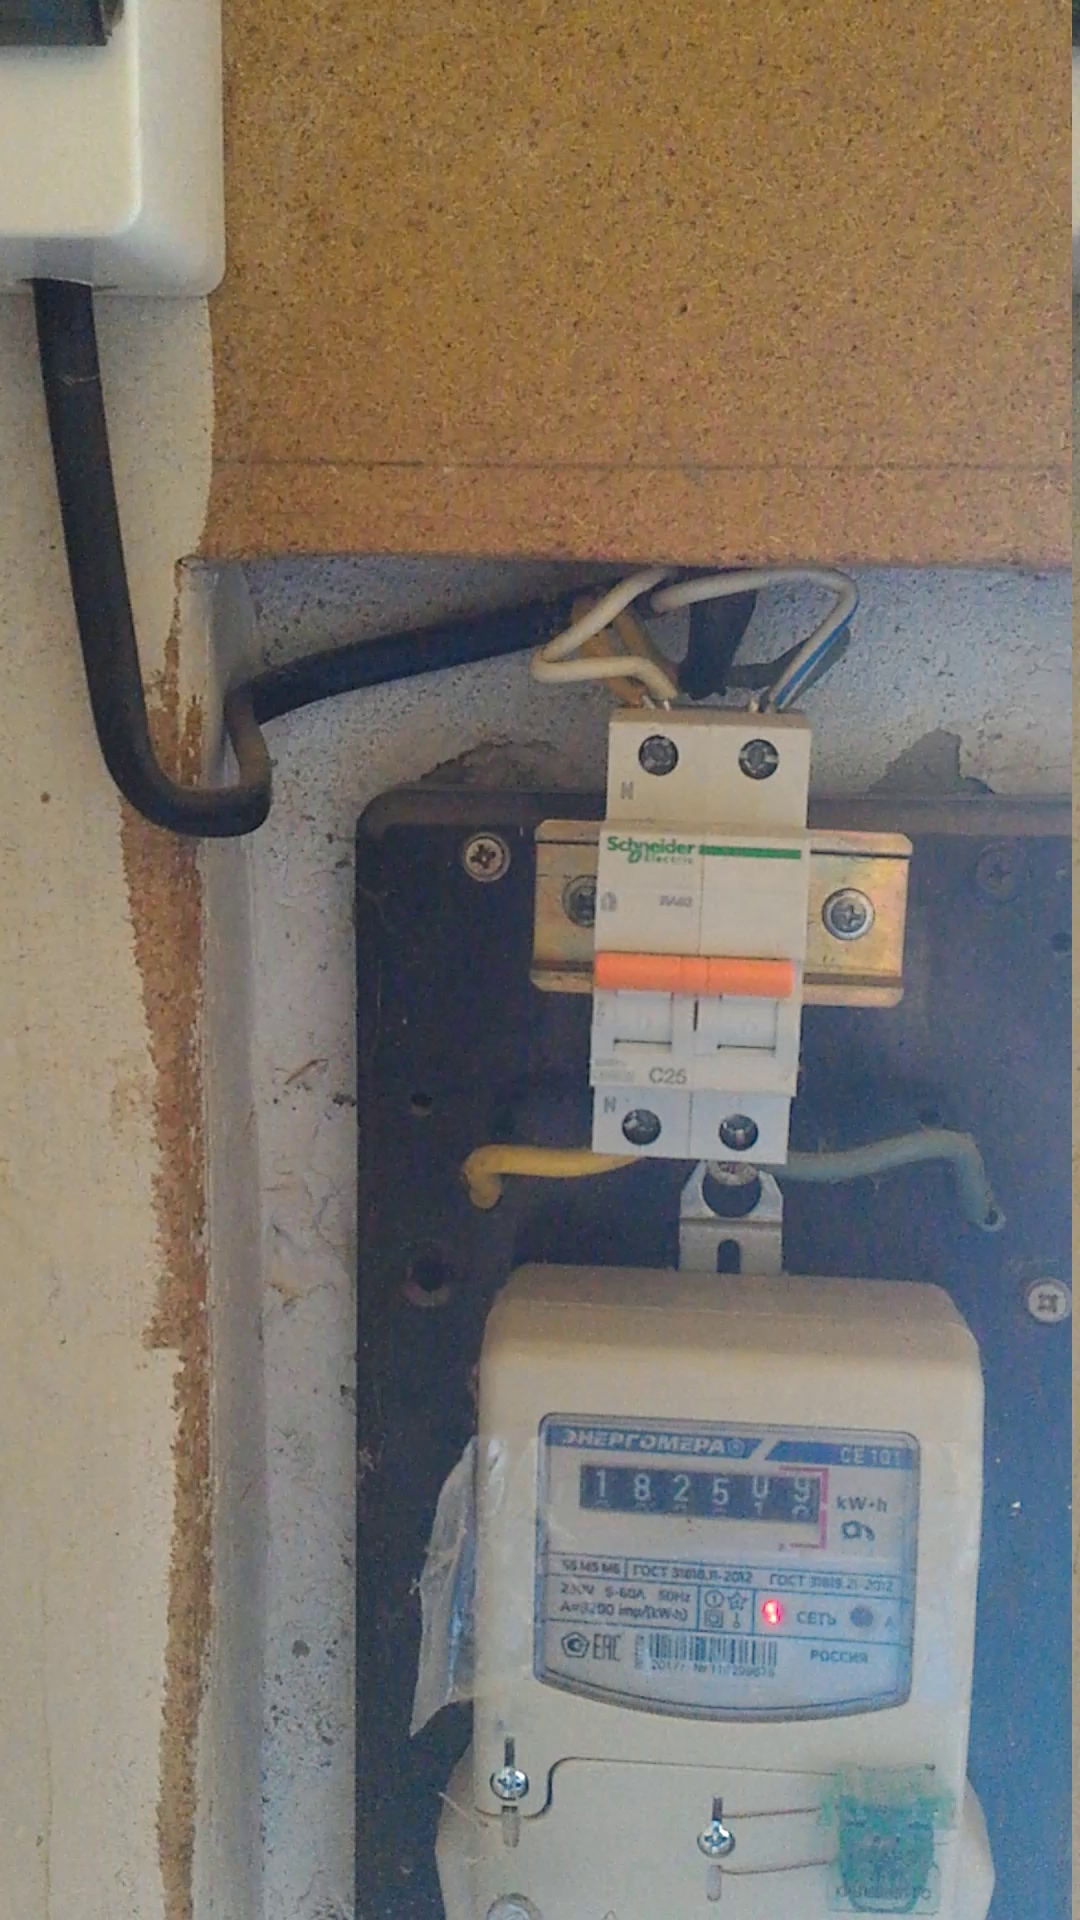counter: (463, 1337, 998, 1917)
counter_screen: (578, 1464, 822, 1524)
